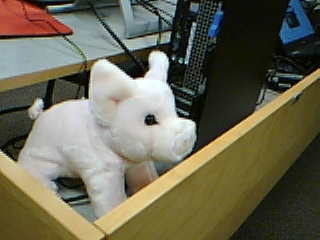piggy: (15, 47, 198, 220)
